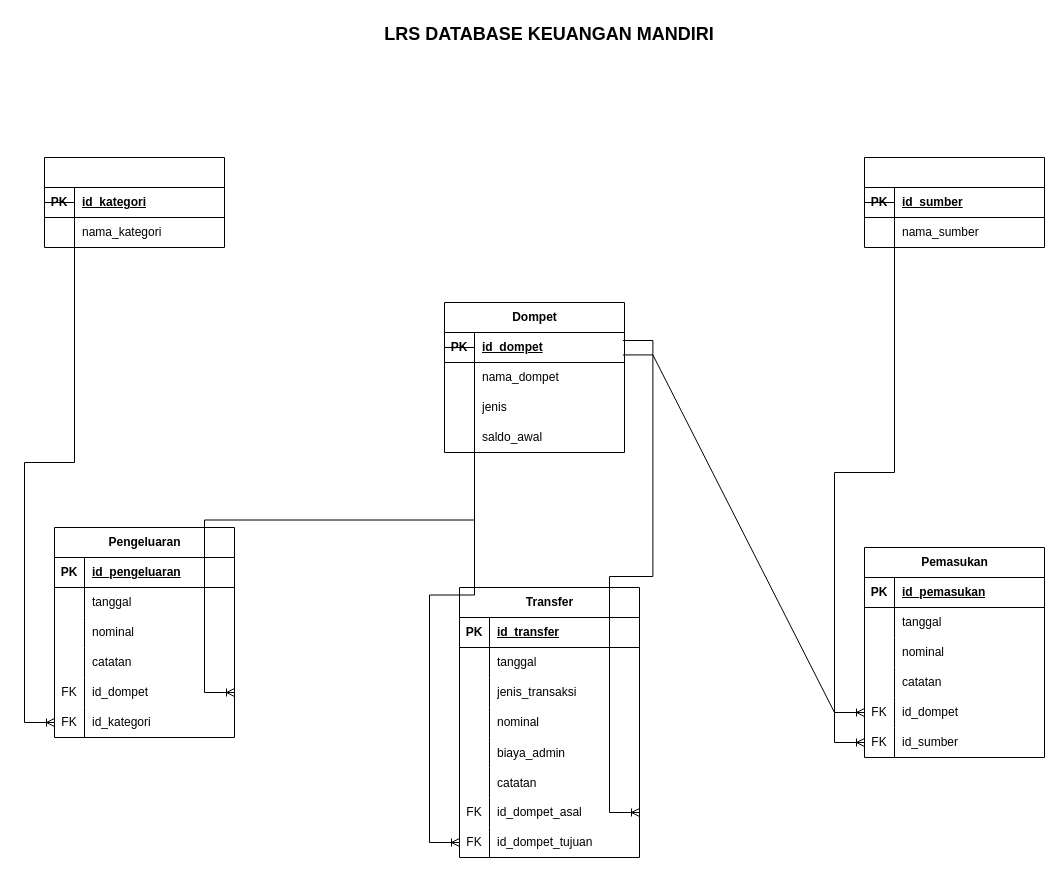
This 1062x875 diagram has some shape labels left out. Here are the shapes that lost their labels. From the top down, the box of each, then its label:
(44, 156, 224, 248): Kategori_Pengeluaran
(864, 156, 1044, 248): Sumber_Pemasukan
